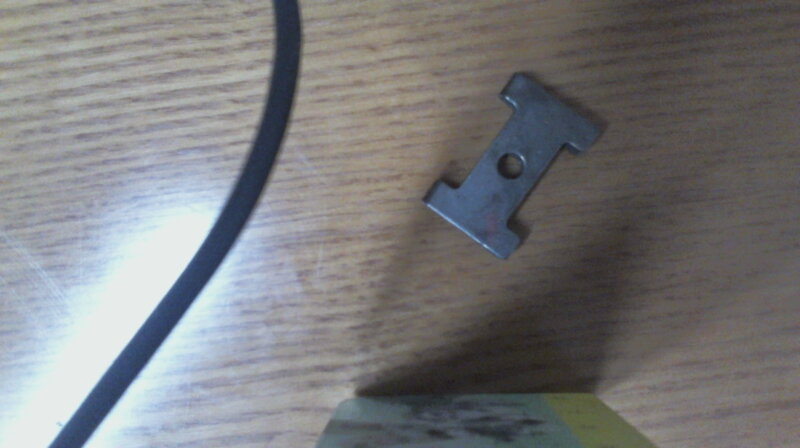O002: (416, 71, 607, 261)
